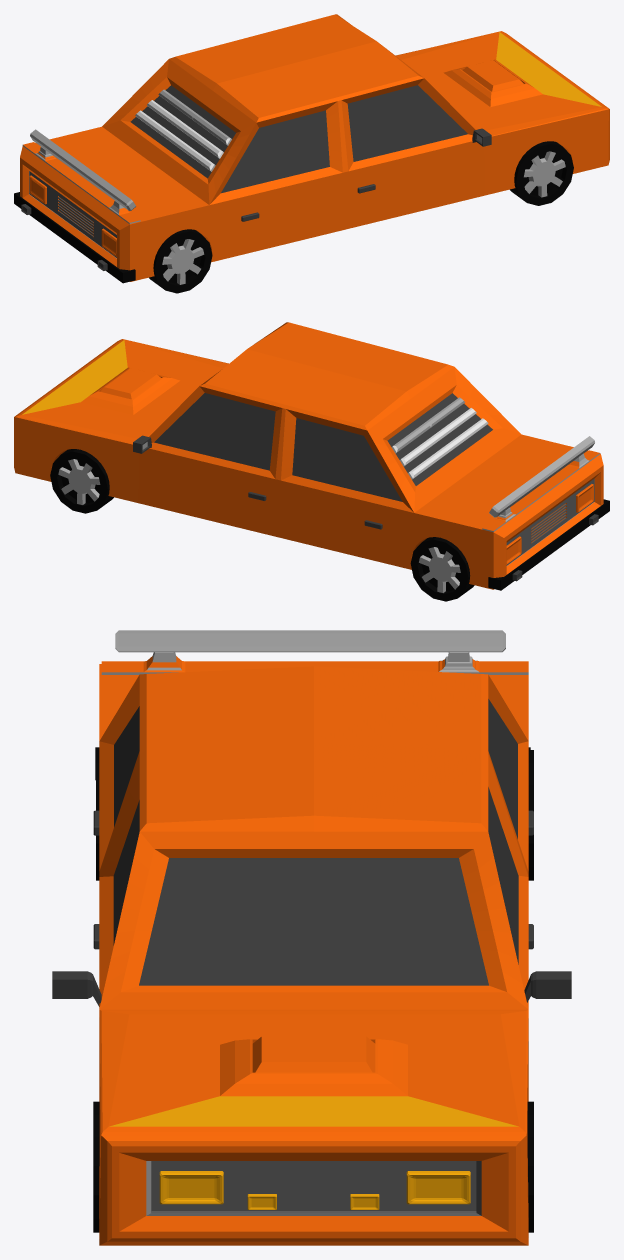
File: BR WHEEL.005_BODY.004.glb
3 views of the same model, one above another, from view 1: azimuth 30°, elevation 25°; view 2: azimuth 150°, elevation 25°; view 3: azimuth 270°, elevation 25° (orthographic). The views are drawn at different scales.
Visible parts, largest first — view 1: BR WHEEL.005_BODY.004_0; view 2: BR WHEEL.005_BODY.004_0; view 3: BR WHEEL.005_BODY.004_0.
Boxes of the visible parts, left/top/right/bottom form: BR WHEEL.005_BODY.004_0: left=14, top=14, right=609, bottom=293; BR WHEEL.005_BODY.004_0: left=14, top=322, right=609, bottom=601; BR WHEEL.005_BODY.004_0: left=52, top=630, right=571, bottom=1245.
Bounding box in the file's own units: 0.792 × 0.2299 × 0.3602.
Materials: 1 (1 with a texture image).
